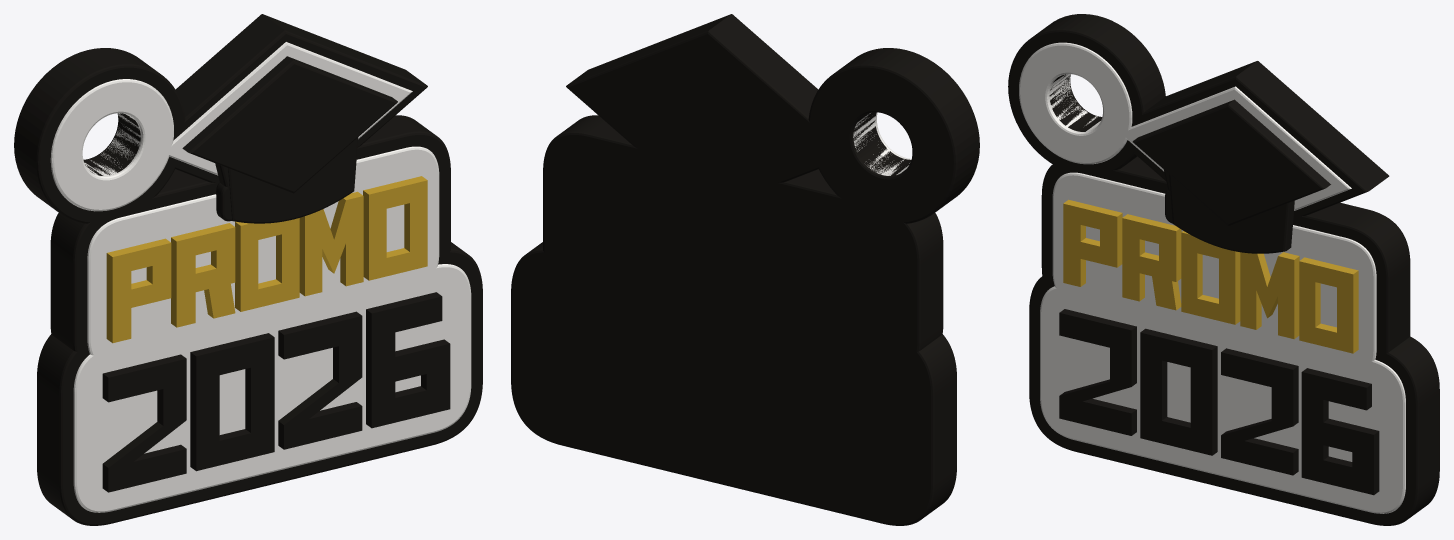
File: llavero.glb
3 views of the same model, side by side, from view 1: azimuth 30°, elevation 25°; view 2: azimuth 150°, elevation 25°; view 3: azimuth 330°, elevation 25° (orthographic). The views are drawn at different scales.
Visible parts, largest first — view 1: placa_fila_anio, placa_fila_promo, tabla_birrete, contorno_fila_anio, contorno_ojal, placa_ojal, contorno_fila_promo, trazo_0_1_0, contorno_birrete, trazo_6_3_2, copa_birrete, trazo_O_4_0 (+16 smaller); view 2: contorno_fila_anio, contorno_fila_promo, contorno_birrete, contorno_ojal, placa_ojal; view 3: placa_fila_anio, placa_fila_promo, tabla_birrete, contorno_fila_anio, contorno_fila_promo, placa_ojal, contorno_ojal, contorno_birrete, trazo_0_1_0, trazo_6_3_2, copa_birrete, trazo_O_4_0 (+16 smaller).
Part boxes in pixels (left/top/right/bottom): placa_fila_anio: left=73, top=264, right=471, bottom=512; placa_fila_promo: left=87, top=146, right=439, bottom=365; tabla_birrete: left=182, top=56, right=397, bottom=193; contorno_fila_anio: left=37, top=242, right=482, bottom=525; contorno_ojal: left=14, top=48, right=185, bottom=223; placa_ojal: left=50, top=79, right=173, bottom=211; contorno_fila_promo: left=50, top=115, right=450, bottom=363; trazo_0_1_0: left=190, top=333, right=274, bottom=471; contorno_birrete: left=166, top=14, right=427, bottom=183; trazo_6_3_2: left=366, top=339, right=450, bottom=428; copa_birrete: left=228, top=137, right=358, bottom=223; trazo_O_4_0: left=363, top=176, right=427, bottom=280; contorno_fila_anio: left=511, top=242, right=956, bottom=525; contorno_fila_promo: left=543, top=115, right=943, bottom=378; contorno_birrete: left=566, top=14, right=846, bottom=209; contorno_ojal: left=808, top=48, right=979, bottom=223; placa_ojal: left=853, top=112, right=911, bottom=175; placa_fila_anio: left=1040, top=286, right=1405, bottom=513; placa_fila_promo: left=1052, top=172, right=1376, bottom=373; tabla_birrete: left=1132, top=99, right=1330, bottom=225; contorno_fila_anio: left=1029, top=275, right=1439, bottom=525; contorno_fila_promo: left=1041, top=156, right=1410, bottom=363; placa_ojal: left=1019, top=42, right=1132, bottom=164; contorno_ojal: left=1008, top=14, right=1165, bottom=174; contorno_birrete: left=1126, top=61, right=1389, bottom=218; trazo_0_1_0: left=1140, top=328, right=1217, bottom=455; trazo_6_3_2: left=1301, top=417, right=1379, bottom=495; copa_birrete: left=1169, top=174, right=1294, bottom=253; trazo_O_4_0: left=1299, top=257, right=1358, bottom=353.
Bounding box in the file's own units: 0.0488 × 0.0478 × 0.00627.
